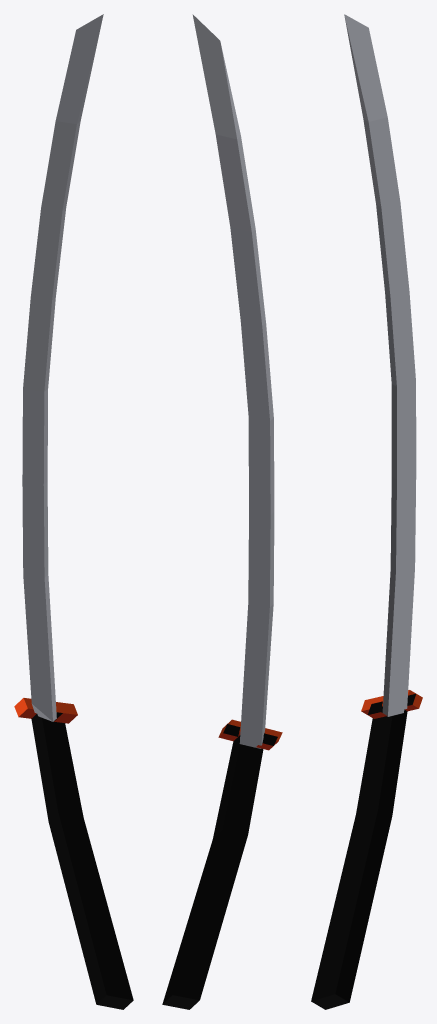
Rendered from sam3.glb.
The picture shows the model from 3 angles, left to right: view 1: azimuth 30°, elevation 25°; view 2: azimuth 210°, elevation 25°; view 3: azimuth 270°, elevation 25°; orthographic projection.
Visible parts, largest first — view 1: Katana; view 2: Katana; view 3: Katana.
Part boxes in pixels (x1=…): Katana: x1=14, y1=14, x2=133, y2=1009; Katana: x1=162, y1=14, x2=282, y2=1009; Katana: x1=311, y1=14, x2=422, y2=1009.
Size of the model in its own units: 0.1074 by 1.31 by 0.1345.
1 material, 1 textured.
